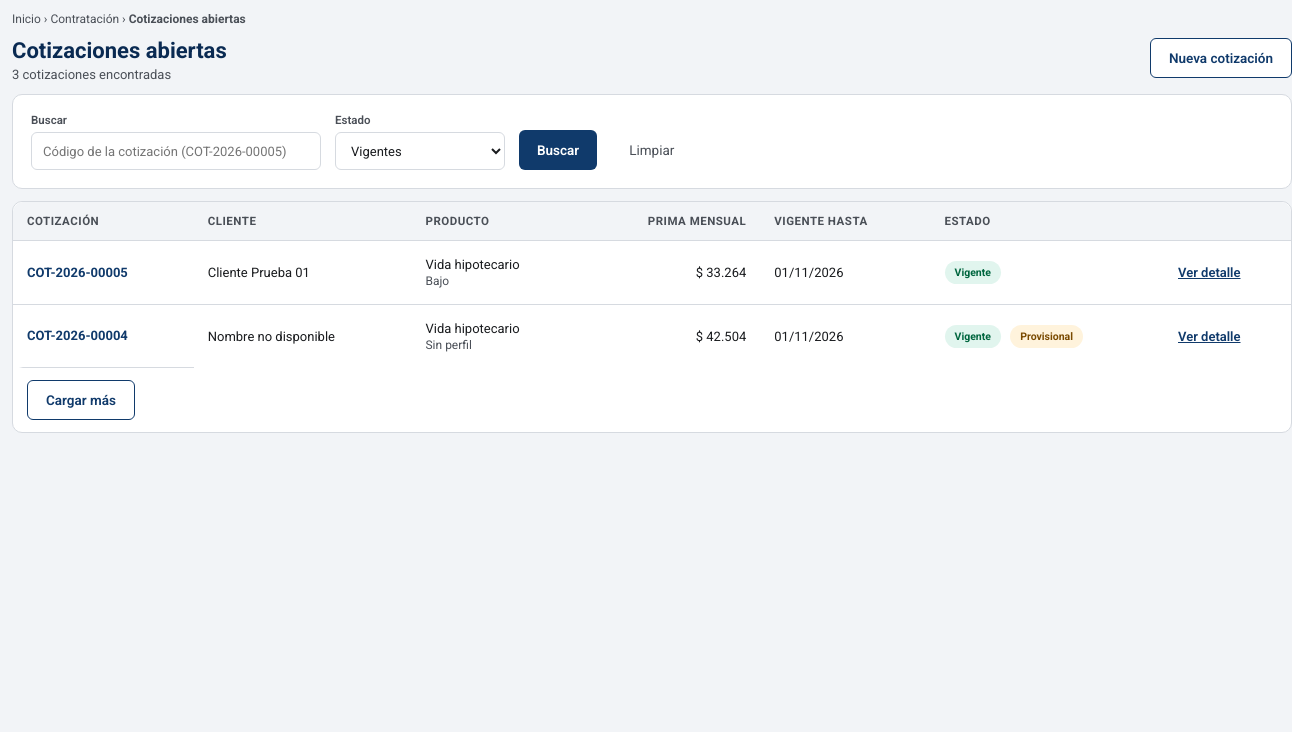
Scenario: CotizacionesAbiertasComponent ("Cotizaciones abiertas", patrón J01) › un cursor que ya no sirve pide volver a buscar
Click the button with class "mas" at [81, 400], box [27,380,135,420]
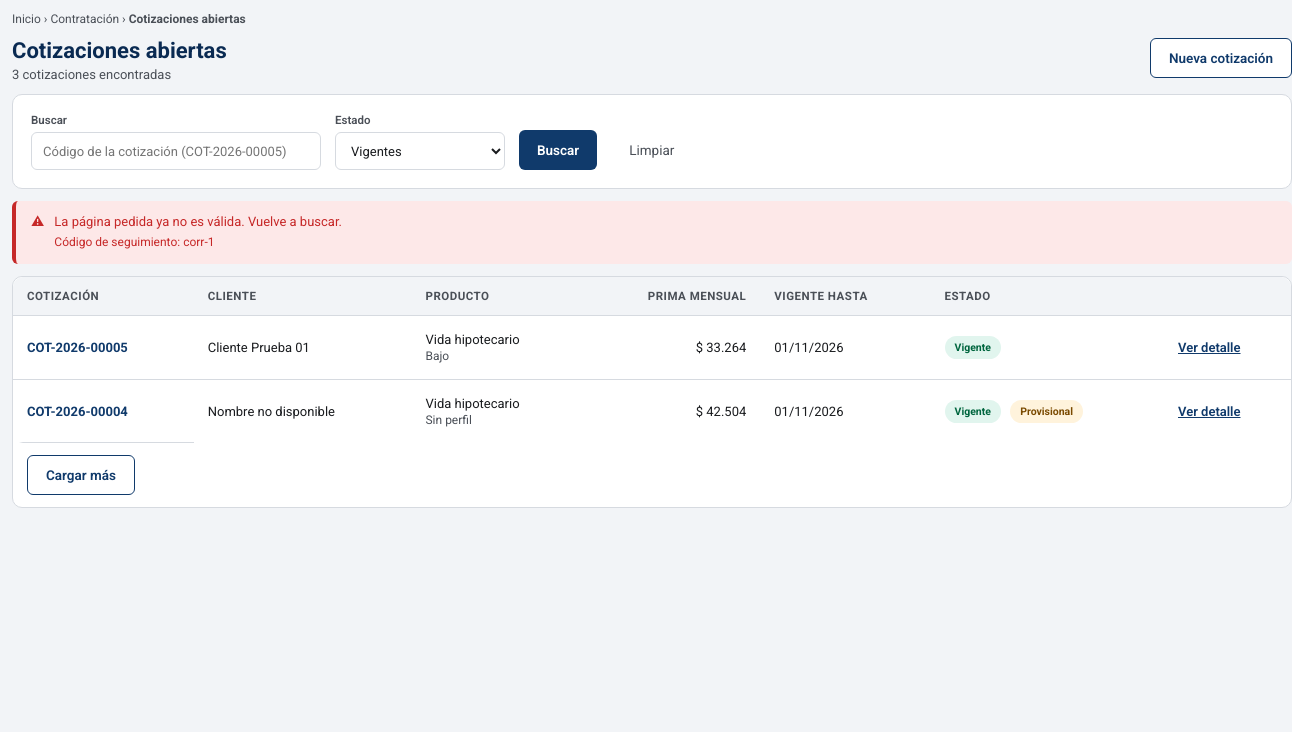
Expected: the message with class "alerta" shows "⚠ La página pedida ya no es válida. Vuelve a buscar. Código de seguimiento: corr-1", [12,201,1291,264]
